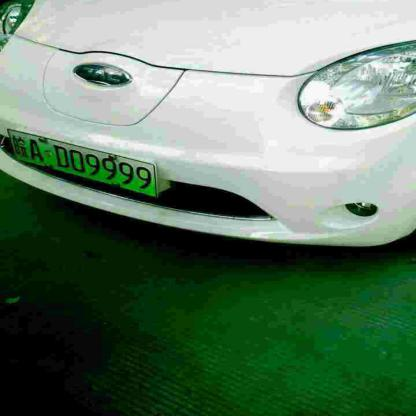lp: (6, 128, 156, 196)
